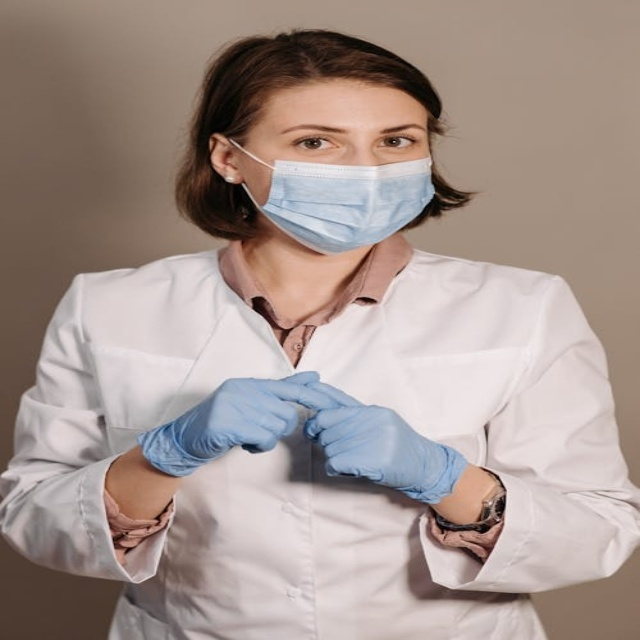Guantes: (293, 380, 468, 503), (138, 373, 326, 477)
Mascara: (228, 137, 435, 254)
Sin_gafas: (293, 136, 337, 151), (377, 135, 417, 149)
